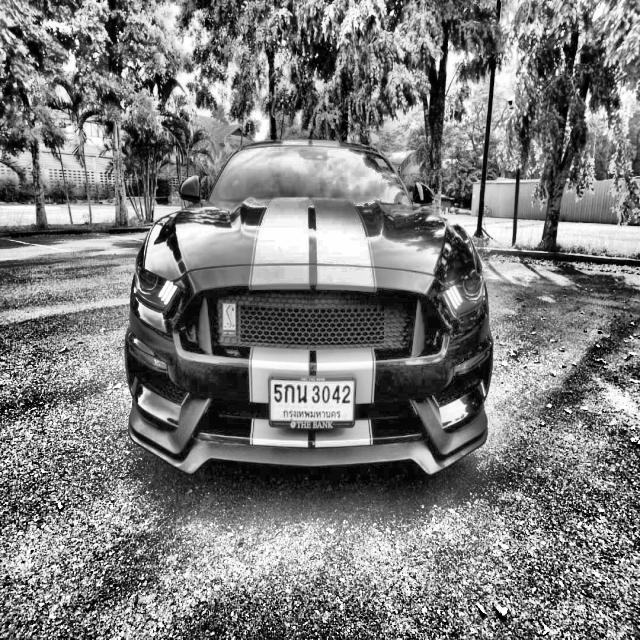license-plate: (266, 371, 361, 437)
